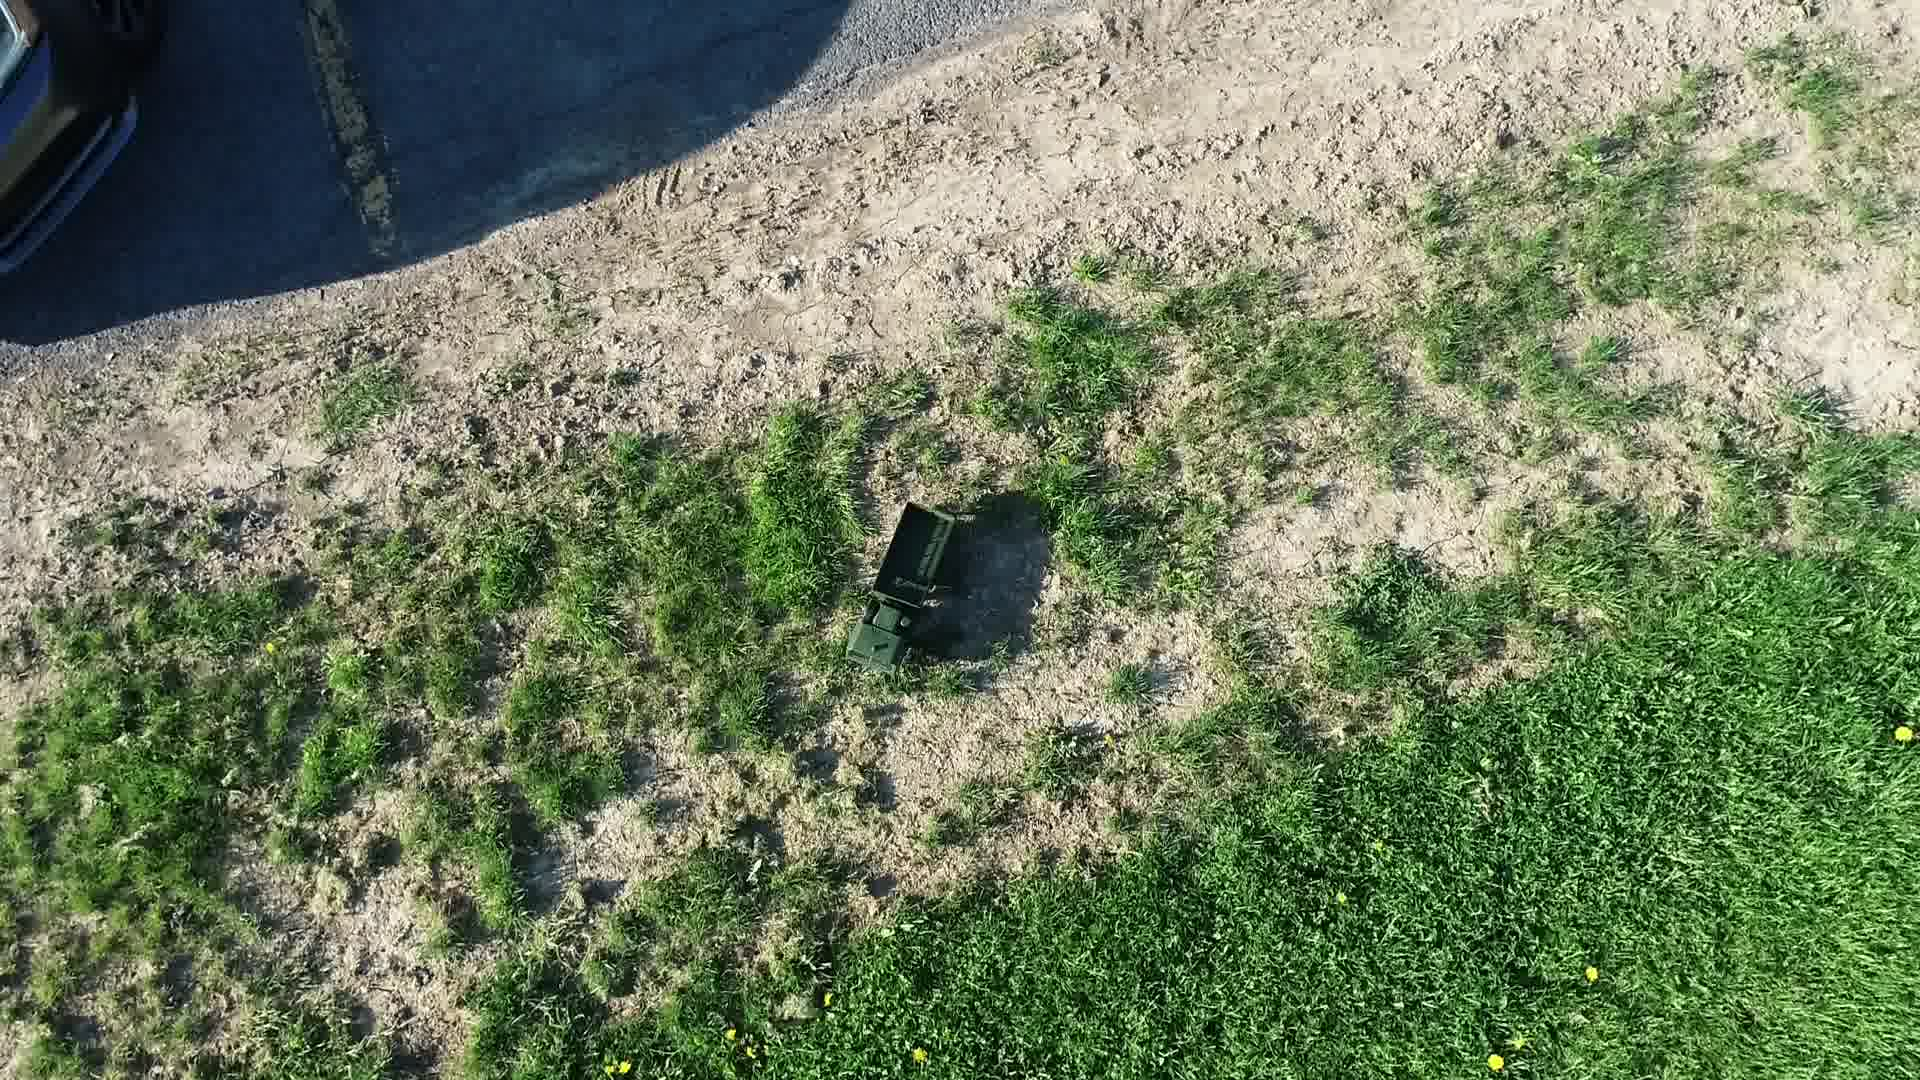transporter9: (839, 498, 963, 690)
